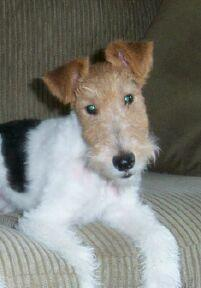wire-haired_fox_terrier: (0, 38, 183, 287)
